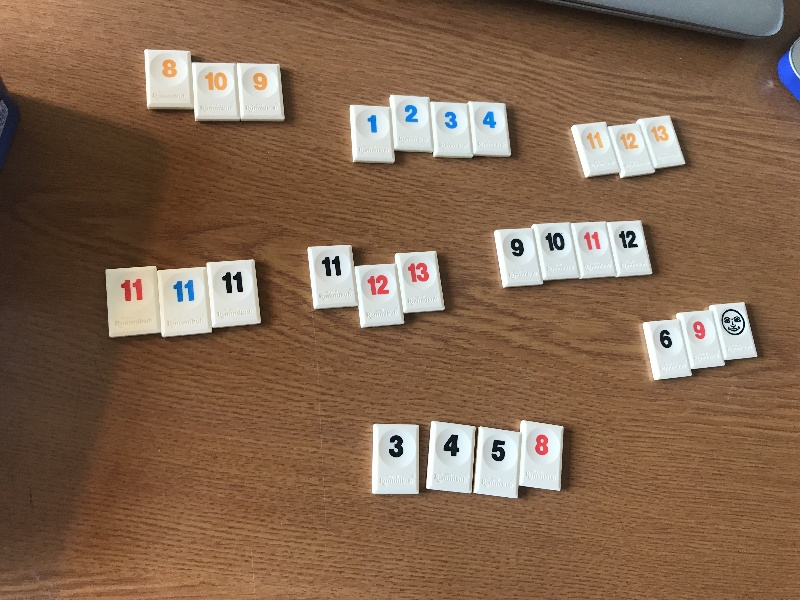single_tile: (204, 258, 264, 330), (104, 265, 164, 336), (157, 267, 214, 339), (424, 420, 475, 495), (370, 422, 420, 497), (474, 423, 520, 503), (516, 418, 564, 493), (354, 263, 407, 330), (640, 317, 694, 382), (307, 242, 360, 308), (568, 118, 622, 182), (142, 47, 196, 110), (348, 100, 398, 168), (237, 60, 289, 125), (394, 247, 444, 313), (465, 95, 514, 162), (387, 91, 436, 157), (674, 309, 724, 373), (532, 222, 583, 284), (494, 226, 544, 289), (605, 218, 656, 279), (192, 59, 241, 122), (430, 99, 478, 163), (709, 300, 760, 360), (638, 114, 688, 172), (608, 121, 657, 180), (570, 219, 618, 279)
tile_row: (364, 414, 574, 505), (101, 256, 272, 347), (300, 237, 455, 337), (136, 43, 294, 127), (346, 91, 515, 168), (488, 218, 663, 292), (637, 299, 762, 387), (568, 114, 691, 183)
